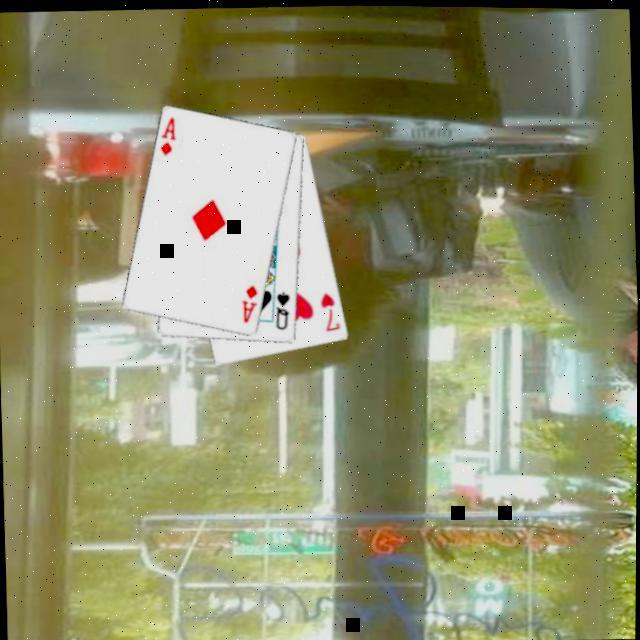7H: (318, 288, 345, 334)
AD: (157, 113, 181, 158), (239, 281, 262, 326)
QS: (273, 287, 295, 332)
